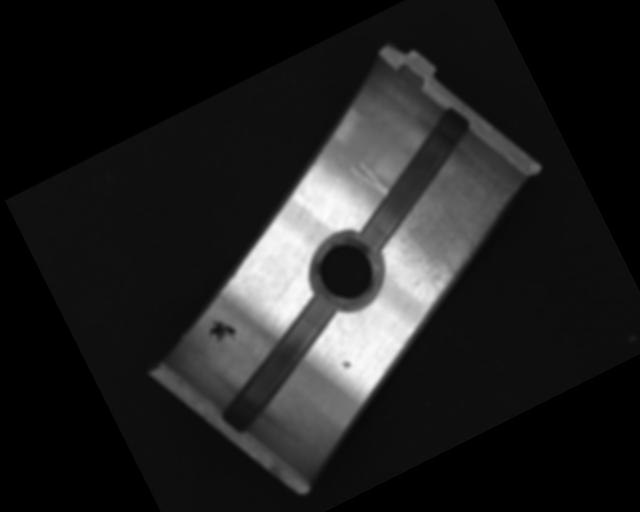blot: (203, 311, 241, 349)
bruise: (340, 359, 352, 370)
gap: (324, 98, 505, 255), (189, 290, 366, 439)
hole: (305, 228, 393, 317)
nick: (346, 153, 391, 206)
scratch: (357, 127, 550, 311)
